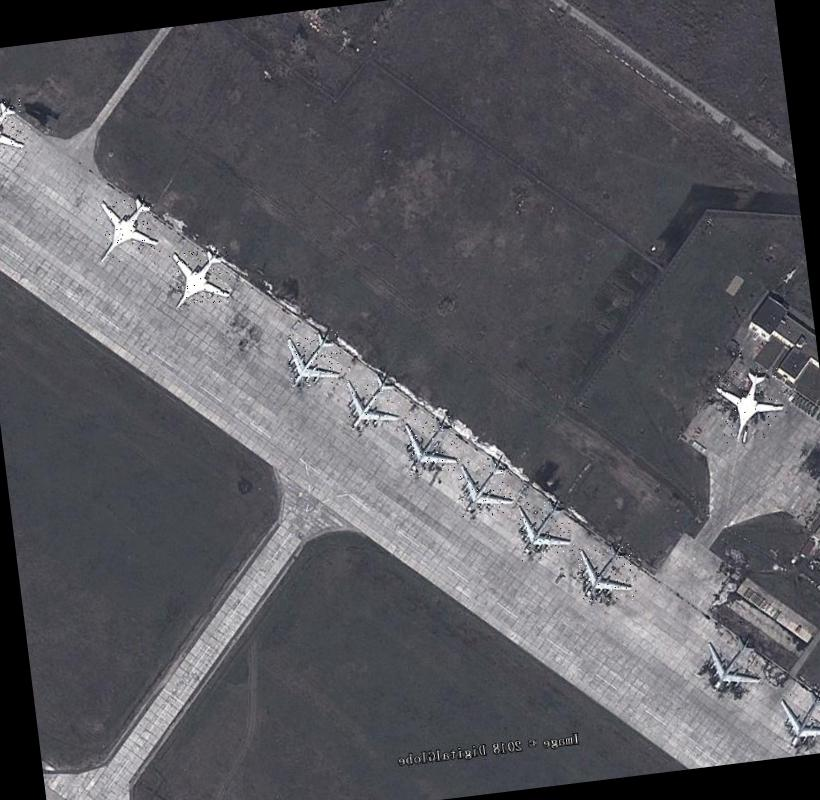A17: (576, 540, 637, 606), (401, 414, 462, 478), (455, 456, 516, 520), (514, 496, 575, 560), (706, 632, 764, 694), (285, 328, 344, 388), (344, 374, 402, 432), (780, 687, 820, 749)
A6: (715, 364, 789, 444), (93, 194, 162, 264), (168, 243, 234, 310), (0, 96, 26, 162)
